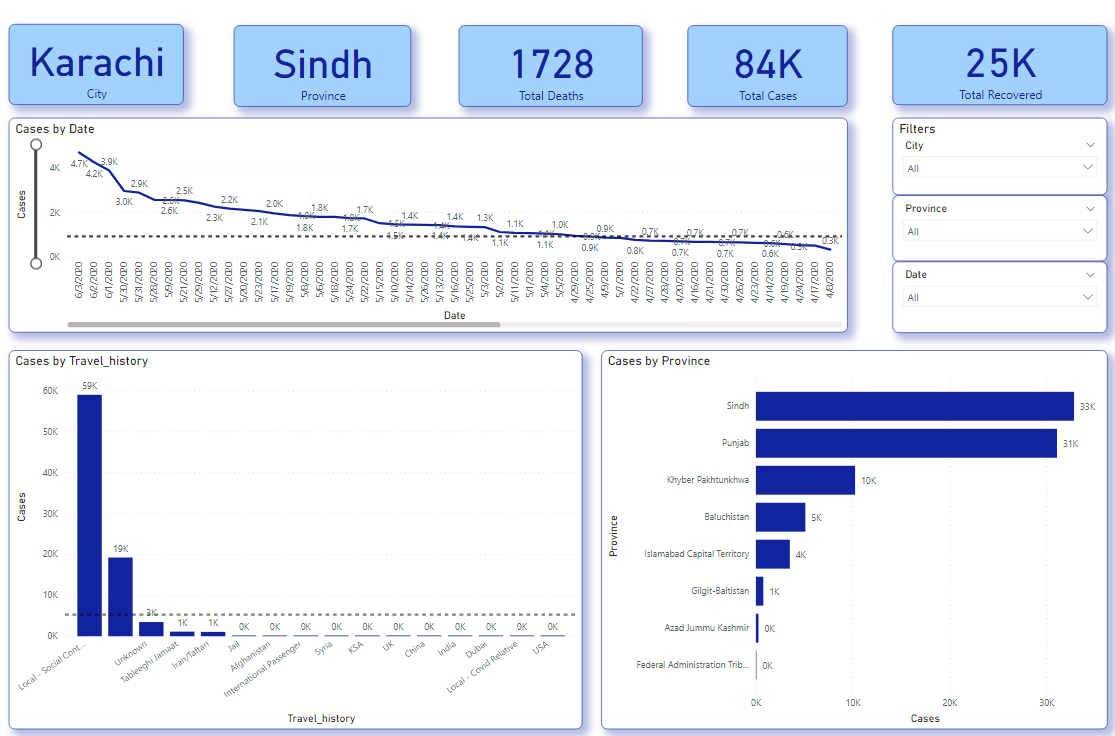

The page's visual inventory and layout, read from the dashboard file:
{"tool":"powerbi","page":{"name":"COVID-19","canvas":[1500,1000],"ordinal":0},"visuals":[{"type":"card","fields":{"Values":["Min(PK COVID-19-3jun.City)"]},"box":[12.4,33.6,234.8,108.5],"z":0},{"type":"card","fields":{"Values":["Min(PK COVID-19-3jun.Province)"]},"box":[314.3,35.6,238.7,109.2],"z":1000},{"type":"card","fields":{"Values":["Sum(PK COVID-19-3jun.Cases)"]},"box":[924.4,35.6,215.1,109.2],"z":2000},{"type":"card","fields":{"Values":["Sum(PK COVID-19-3jun.Deaths)"]},"box":[616.8,35.6,247.1,109.2],"z":3000},{"type":"card","fields":{"Values":["Sum(PK COVID-19-3jun.Recovered)"]},"box":[1200,35.6,289.1,107.6],"z":4000},{"type":"lineChart","fields":{"Category":["PK COVID-19-3jun.Date"],"Y":["Sum(PK COVID-19-3jun.Cases)"]},"box":[11.8,160,1127.7,289.1],"z":5000},{"type":"barChart","fields":{"Category":["PK COVID-19-3jun.Province"],"Y":["Sum(PK COVID-19-3jun.Cases)"]},"box":[808.4,472.3,680.7,509.2],"z":6000},{"type":"clusteredColumnChart","fields":{"Y":["Sum(PK COVID-19-3jun.Cases)"],"Category":["PK COVID-19-3jun.Travel_history"]},"box":[11.8,472.3,771.4,509.2],"z":7000},{"type":"slicer","title":"Filters","fields":{"Values":["PK COVID-19-3jun.City"]},"box":[1200,160,289.1,104.2],"z":8000},{"type":"slicer","fields":{"Values":["PK COVID-19-3jun.Province"]},"box":[1200,264.2,289.1,89.1],"z":9000},{"type":"slicer","fields":{"Values":["PK COVID-19-3jun.Date"]},"box":[1200,353.3,289.1,95.8],"z":10000}]}

Visuals, with their boxes in screenshot pixels (x1, y1, x2, y2), scaled from the page's 1500x1000 canvas onto the 1115x736 screenshot:
card - Min(PK COVID-19-3jun.City): [left=9, top=25, right=184, bottom=105]
card - Min(PK COVID-19-3jun.Province): [left=234, top=26, right=411, bottom=107]
card - Sum(PK COVID-19-3jun.Cases): [left=687, top=26, right=847, bottom=107]
card - Sum(PK COVID-19-3jun.Deaths): [left=458, top=26, right=642, bottom=107]
card - Sum(PK COVID-19-3jun.Recovered): [left=892, top=26, right=1107, bottom=105]
lineChart - PK COVID-19-3jun.Date x Sum(PK COVID-19-3jun.Cases): [left=9, top=118, right=847, bottom=331]
barChart - PK COVID-19-3jun.Province x Sum(PK COVID-19-3jun.Cases): [left=601, top=348, right=1107, bottom=722]
clusteredColumnChart - Sum(PK COVID-19-3jun.Cases) x PK COVID-19-3jun.Travel_history: [left=9, top=348, right=582, bottom=722]
"Filters" slicer: [left=892, top=118, right=1107, bottom=194]
slicer - PK COVID-19-3jun.Province: [left=892, top=194, right=1107, bottom=260]
slicer - PK COVID-19-3jun.Date: [left=892, top=260, right=1107, bottom=331]
